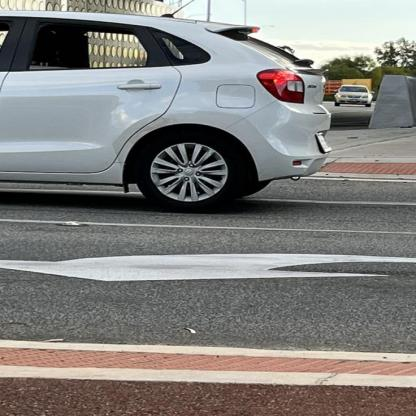Tire: (134, 130, 248, 213)
